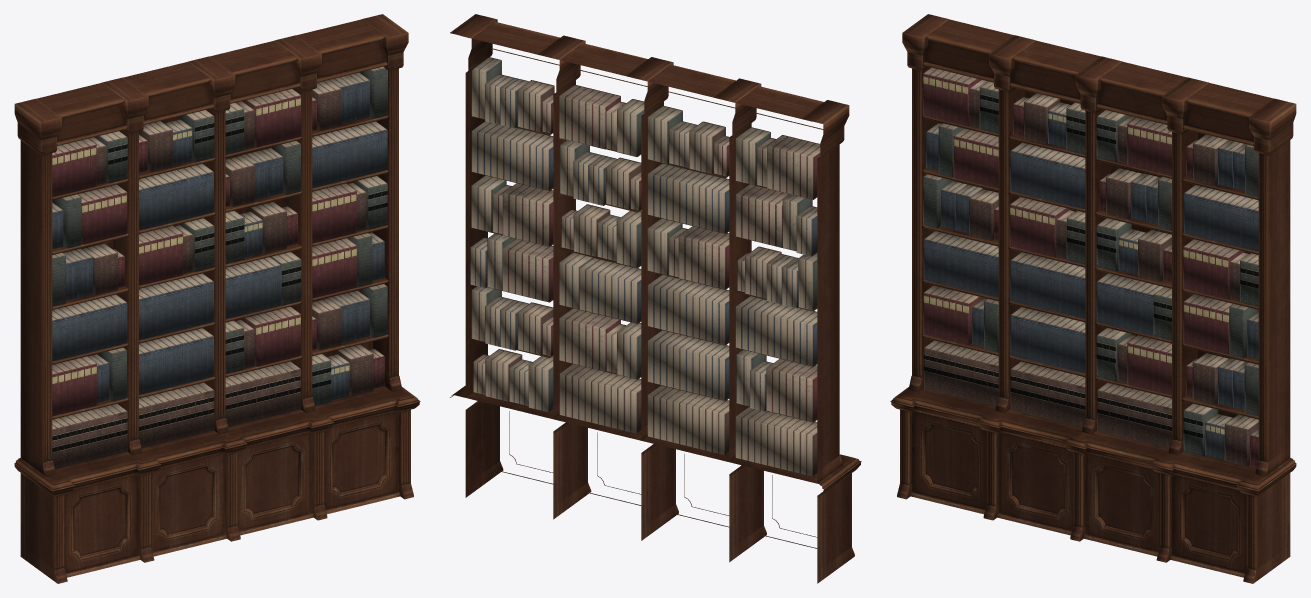
File: antique_wooden_bookcase_-_game_model.glb
3 views of the same model, side by side, from view 1: azimuth 30°, elevation 25°; view 2: azimuth 150°, elevation 25°; view 3: azimuth 330°, elevation 25° (orthographic).
Parts seen in each view (by area): view 1: bottom_lp.001, Cube.043, Cube.069, Cube.034, Cube.048, Cube.028, Cube.072, Cube.057, Cube.026, Cube.033, Cube.042, Cube.056 (+13 smaller); view 2: bottom_lp.001, Cube.076, Cube.022, Cube.043, Cube.057, Cube.069, Cube.048, Cube.034, Cube.026, Cube.033, Cube.042, Cube.056 (+13 smaller); view 3: bottom_lp.001, Cube.048, Cube.069, Cube.034, Cube.043, Cube.042, Cube.033, Cube.028, Cube.046, Cube.056, Cube.026, Cube.072 (+13 smaller).
Part boxes in pixels (x1,y1,x2,y2): bottom_lp.001: [14, 14, 420, 583]; Cube.043: [225, 252, 301, 318]; Cube.069: [312, 176, 387, 243]; Cube.034: [225, 306, 300, 374]; Cube.048: [139, 218, 214, 285]; Cube.028: [52, 294, 127, 361]; Cube.072: [312, 121, 387, 188]; Cube.057: [52, 184, 127, 248]; Cube.026: [52, 347, 126, 416]; Cube.033: [139, 328, 213, 394]; Cube.042: [139, 273, 213, 340]; Cube.056: [139, 163, 213, 230]; bottom_lp.001: [450, 14, 861, 583]; Cube.076: [735, 127, 820, 199]; Cube.022: [559, 85, 644, 156]; Cube.043: [559, 252, 641, 323]; Cube.057: [735, 184, 817, 256]; Cube.069: [471, 175, 553, 246]; Cube.048: [647, 218, 729, 289]; Cube.034: [559, 308, 641, 378]; Cube.026: [736, 350, 817, 421]; Cube.033: [647, 330, 729, 400]; Cube.042: [647, 274, 729, 344]; Cube.056: [647, 163, 729, 233]; bottom_lp.001: [890, 14, 1296, 583]; Cube.048: [1009, 197, 1085, 264]; Cube.069: [1183, 239, 1258, 306]; Cube.034: [1096, 328, 1171, 395]; Cube.043: [1096, 273, 1171, 340]; Cube.042: [1010, 252, 1085, 318]; Cube.033: [1010, 307, 1085, 373]; Cube.028: [923, 231, 998, 297]; Cube.046: [1183, 294, 1258, 358]; Cube.056: [1010, 142, 1085, 209]; Cube.026: [923, 285, 998, 352]; Cube.072: [1184, 185, 1258, 251].
Bounding box in the file's own units: 3.84 × 4.51 × 0.6787.
2 materials, 2 textured.
